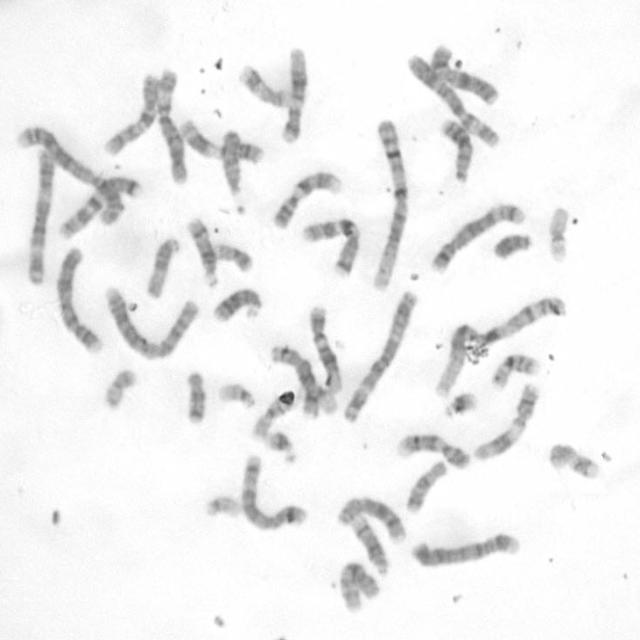A1: (430, 292, 567, 400), (367, 117, 410, 294)
A2: (12, 121, 126, 226), (100, 280, 200, 362)
A3: (339, 285, 419, 425), (21, 146, 56, 287)
B4: (53, 244, 104, 356), (406, 528, 521, 570)
B5: (427, 198, 527, 274), (237, 450, 308, 533)
C10: (99, 69, 162, 157), (336, 558, 383, 616)
C11: (469, 378, 542, 462), (174, 116, 264, 166)
C12: (306, 302, 343, 395), (278, 42, 309, 144)
C6: (405, 48, 502, 150), (152, 65, 190, 187)
C7: (56, 170, 144, 241), (298, 214, 361, 279)
C8: (267, 341, 333, 418), (333, 492, 409, 546)
C9: (270, 168, 344, 230), (393, 430, 472, 471)
D13: (437, 115, 474, 184), (209, 283, 264, 325)
D14: (348, 511, 391, 576), (184, 213, 219, 289)
D15: (142, 233, 180, 300), (218, 126, 243, 198)
E16: (488, 349, 541, 391), (250, 397, 292, 442)
E17: (236, 62, 292, 110), (544, 438, 600, 482)
E18: (402, 456, 447, 515), (182, 366, 208, 426)
F19: (544, 202, 571, 265), (295, 384, 343, 416)
F20: (100, 364, 137, 411), (210, 239, 255, 274)
G21: (262, 426, 300, 466), (439, 388, 479, 420)
G22: (215, 378, 258, 411), (201, 490, 241, 520)
X: (426, 43, 500, 106)
Y: (489, 229, 533, 262)
